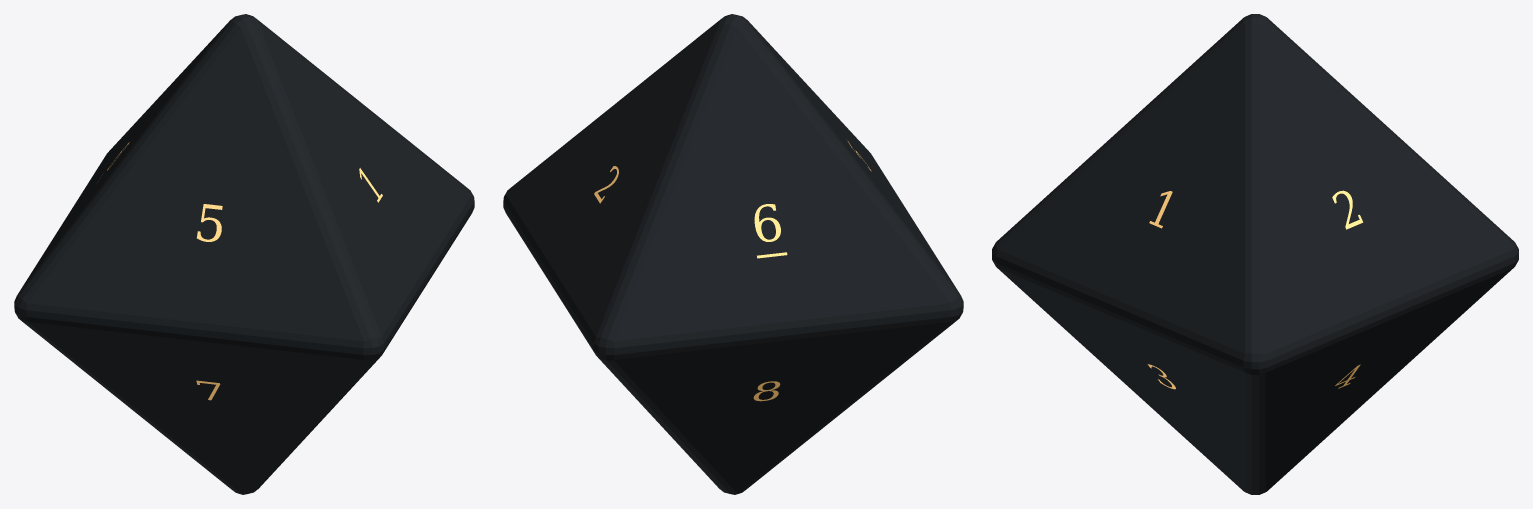
The model's file is d8_boolean_engraved.glb.
3 renders of one model, left to right at view 1: azimuth 30°, elevation 25°; view 2: azimuth 150°, elevation 25°; view 3: azimuth 270°, elevation 25°, orthographic.
Parts seen in each view (by area): view 1: Sculpted_Obsidian, Recessed_Bronze_Number_Geometry; view 2: Sculpted_Obsidian, Recessed_Bronze_Number_Geometry; view 3: Sculpted_Obsidian, Recessed_Bronze_Number_Geometry.
Part boxes in pixels (bbox=[...]): Sculpted_Obsidian: bbox=[14, 14, 474, 494]; Recessed_Bronze_Number_Geometry: bbox=[107, 142, 382, 400]; Sculpted_Obsidian: bbox=[503, 14, 963, 494]; Recessed_Bronze_Number_Geometry: bbox=[594, 141, 871, 401]; Sculpted_Obsidian: bbox=[992, 14, 1518, 494]; Recessed_Bronze_Number_Geometry: bbox=[1147, 190, 1363, 389].
Size of the model in its own units: 1.76 by 1.76 by 1.76.
Materials: 2 (1 with a texture image).
